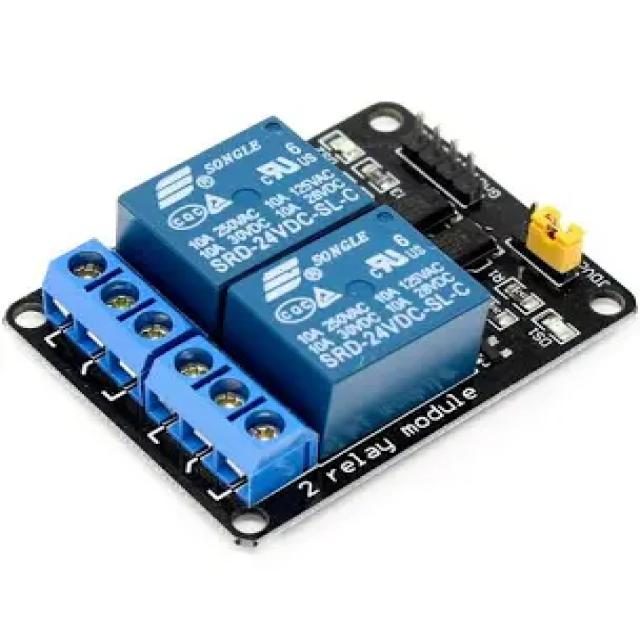Relay: (7, 79, 634, 528)
